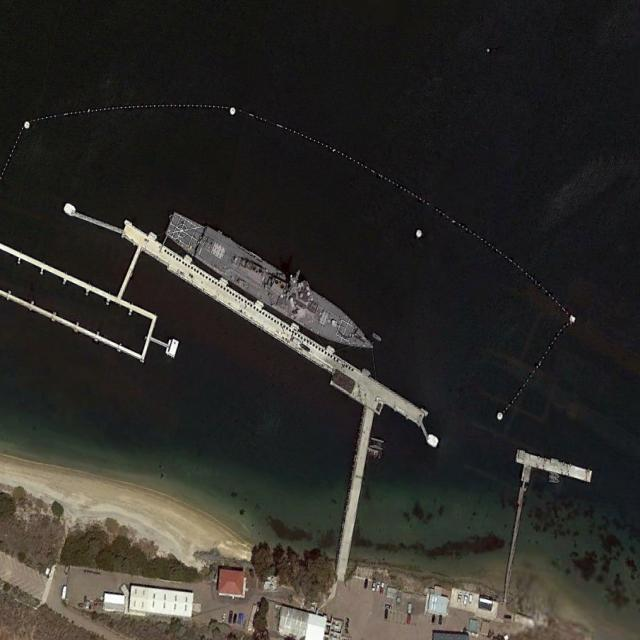Destroyer: (162, 204, 380, 366)
